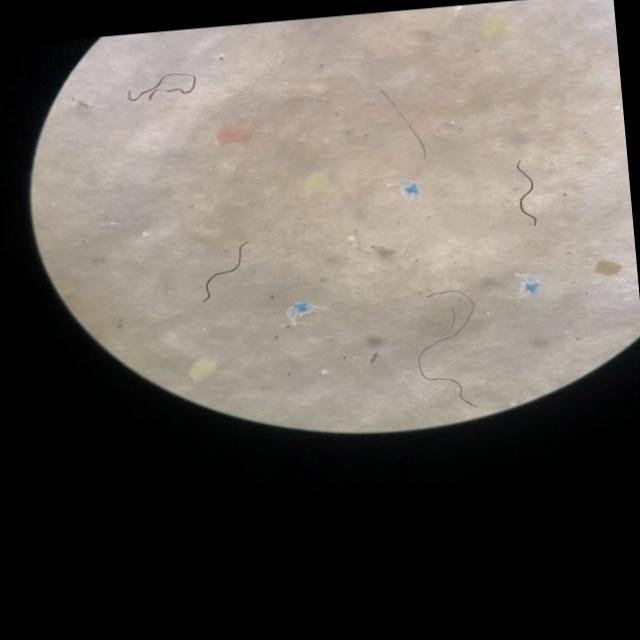fiber: (418, 290, 478, 407), (379, 89, 424, 159), (201, 241, 246, 302), (202, 241, 246, 302), (126, 72, 195, 101), (515, 160, 536, 225)
film: (417, 291, 478, 408), (286, 304, 311, 323), (519, 275, 538, 292), (397, 179, 417, 185)
fragment: (216, 127, 251, 144), (188, 359, 215, 380), (303, 172, 326, 192), (483, 18, 506, 37), (595, 259, 620, 276)
pellet: (320, 369, 327, 374), (142, 231, 149, 236), (348, 236, 354, 241)
